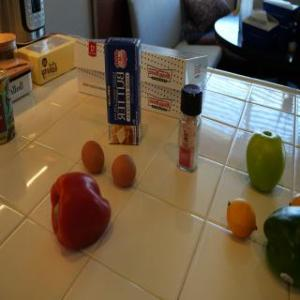bell_pepper: (50, 178, 116, 252), (260, 203, 300, 293)
egg: (110, 154, 138, 188), (82, 140, 104, 174)
